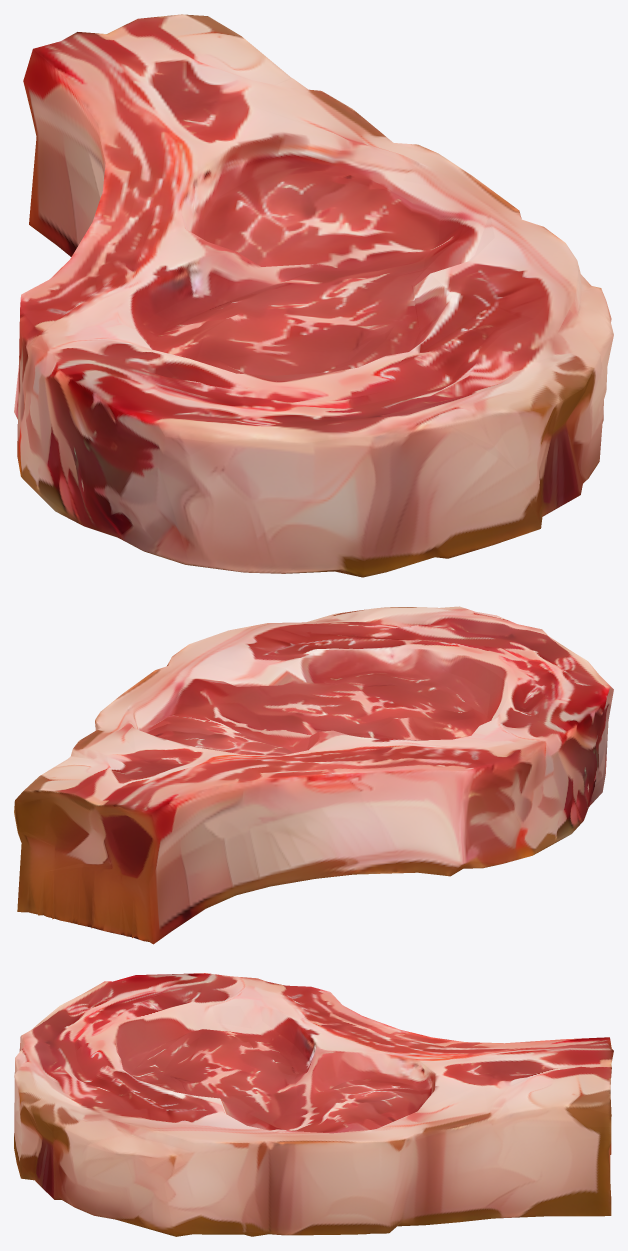
Rendered from base_basic_shaded.fbx.
The picture shows the model from 3 angles, top to bottom: view 1: azimuth 30°, elevation 25°; view 2: azimuth 150°, elevation 25°; view 3: azimuth 270°, elevation 25°; orthographic projection. The views are drawn at different scales.
Visible parts, largest first — view 1: model; view 2: model; view 3: model.
Part boxes in pixels (x1=…): model: x1=14, y1=14, x2=613, y2=577; model: x1=14, y1=606, x2=613, y2=944; model: x1=14, y1=973, x2=613, y2=1236.
Bounding box in the file's own units: 121 × 40.83 × 178.
